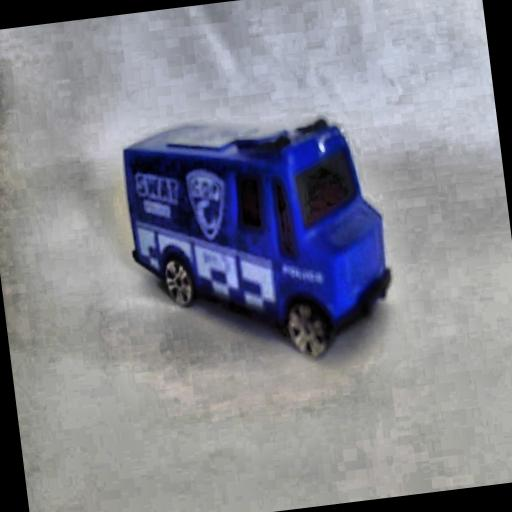police car: (108, 76, 410, 390)
